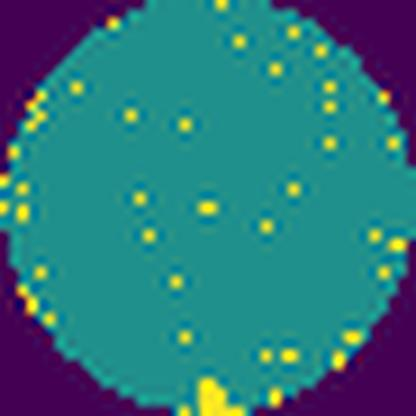Edge-Loc: (194, 367, 255, 416)
